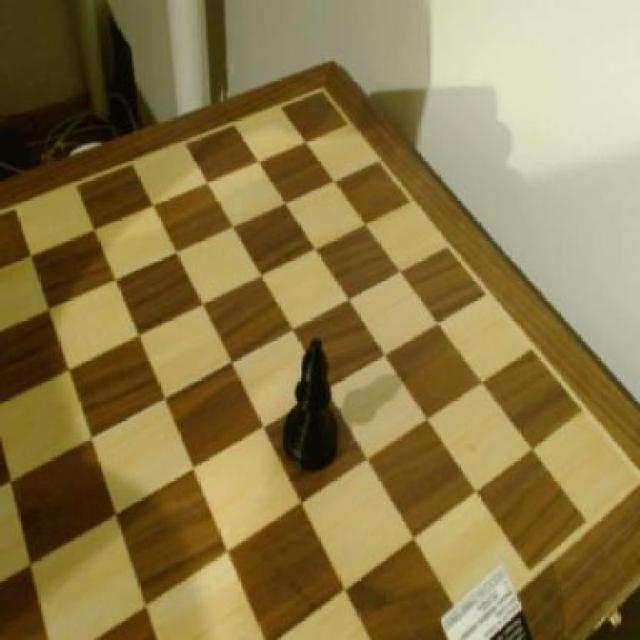bishop: (280, 332, 345, 480)
